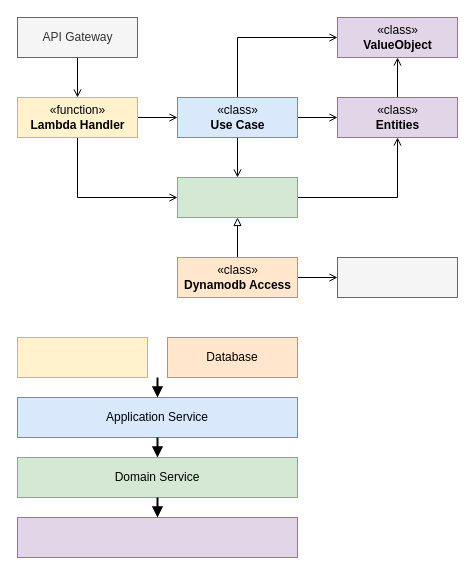
The diagram is 475 pixels wide and 575 high, and some of its shapes have lost their labels. The shapes that lost their labels are listed below. From the top down, each one's box as (x1, y1, x2, y2) in pixels, then its label:
(176, 176, 298, 218): «interface» Repository
(336, 256, 458, 298): DynamoDB
(16, 336, 148, 378): Api Interface
(16, 516, 298, 558): Domain Model
